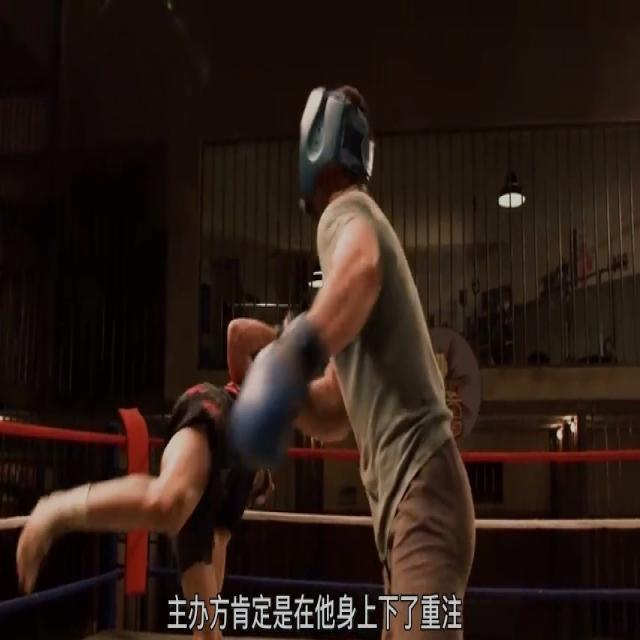fight: (16, 75, 477, 639)
